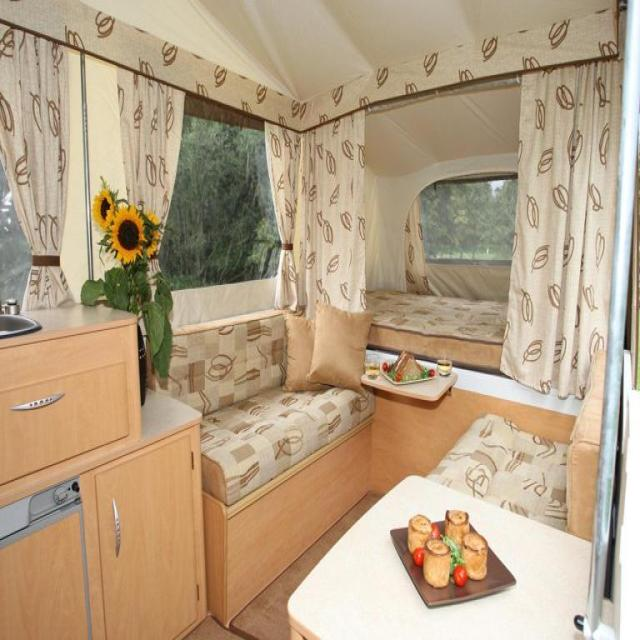curtains: (499, 50, 626, 400), (0, 21, 74, 310), (295, 106, 367, 318), (116, 59, 186, 274), (264, 118, 302, 312)
pillows: (306, 299, 372, 396), (281, 309, 327, 391)
plants: (79, 174, 174, 382)
rugs: (424, 410, 569, 532)
sofa: (145, 304, 376, 628)
table: (286, 472, 612, 638)
